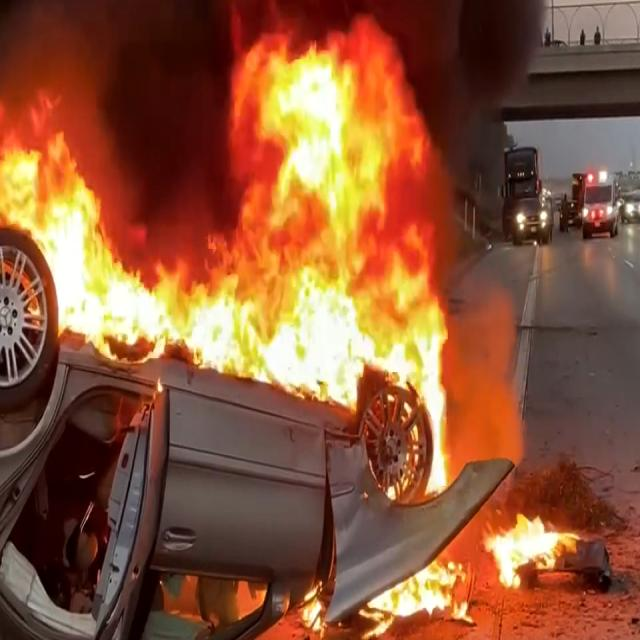fire: (223, 3, 477, 500), (0, 59, 181, 353)
